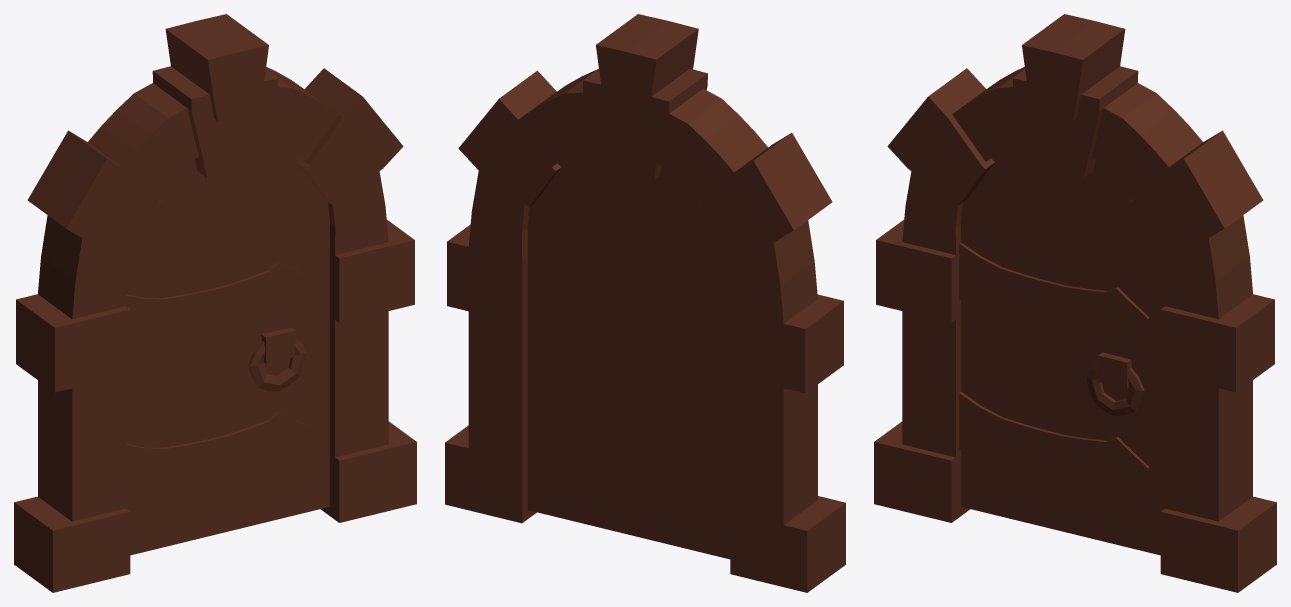
Rendered from Dungeon_Door_Open.fbx.
3 renders of one model, left to right at view 1: azimuth 30°, elevation 25°; view 2: azimuth 150°, elevation 25°; view 3: azimuth 330°, elevation 25°, orthographic.
Visible parts, largest first — view 1: Door closed; view 2: Door closed; view 3: Door closed.
Boxes of the visible parts, box(x1,y1,x2,y2) form: Door closed: box(14, 14, 416, 592); Door closed: box(445, 14, 845, 592); Door closed: box(874, 14, 1276, 592).
Size of the model in its own units: 2.65 by 3.47 by 0.54.
